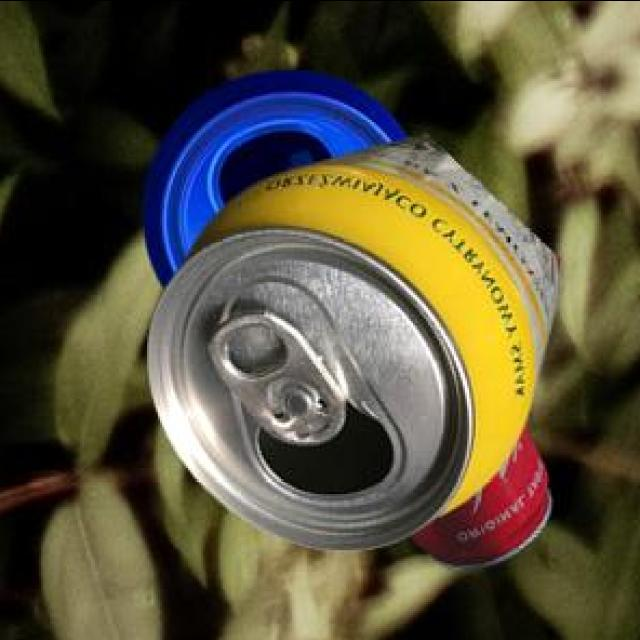logam: (144, 131, 559, 546), (139, 66, 403, 283), (408, 423, 548, 565)
